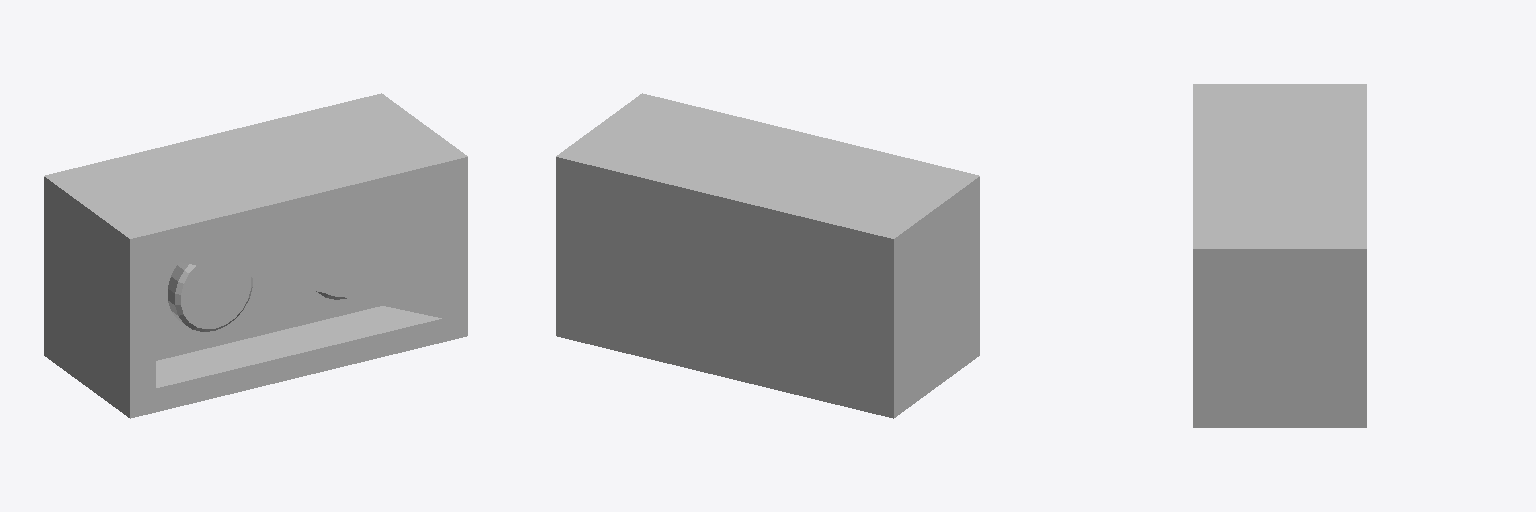
Rendered from Battery_2.obj.
3 views of the same model, side by side, from view 1: azimuth 30°, elevation 25°; view 2: azimuth 150°, elevation 25°; view 3: azimuth 270°, elevation 25° (orthographic).
Visible parts, largest first — view 1: Cube.004, Cylinder.002; view 2: Cube.004; view 3: Cube.004.
Part boxes in pixels (x1,y1,x2,y2): Cube.004: (44,93,467,418); Cylinder.002: (168,262,346,331); Cube.004: (556,93,979,418); Cube.004: (1193,84,1366,427).
Size of the model in its own units: 6.33 by 3.21 by 2.81.